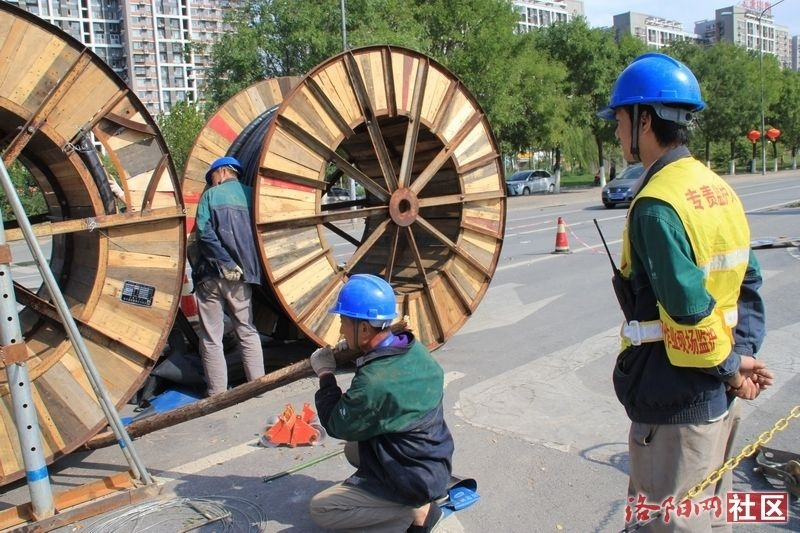blue: (602, 50, 707, 166), (332, 270, 402, 356), (202, 155, 245, 190)
